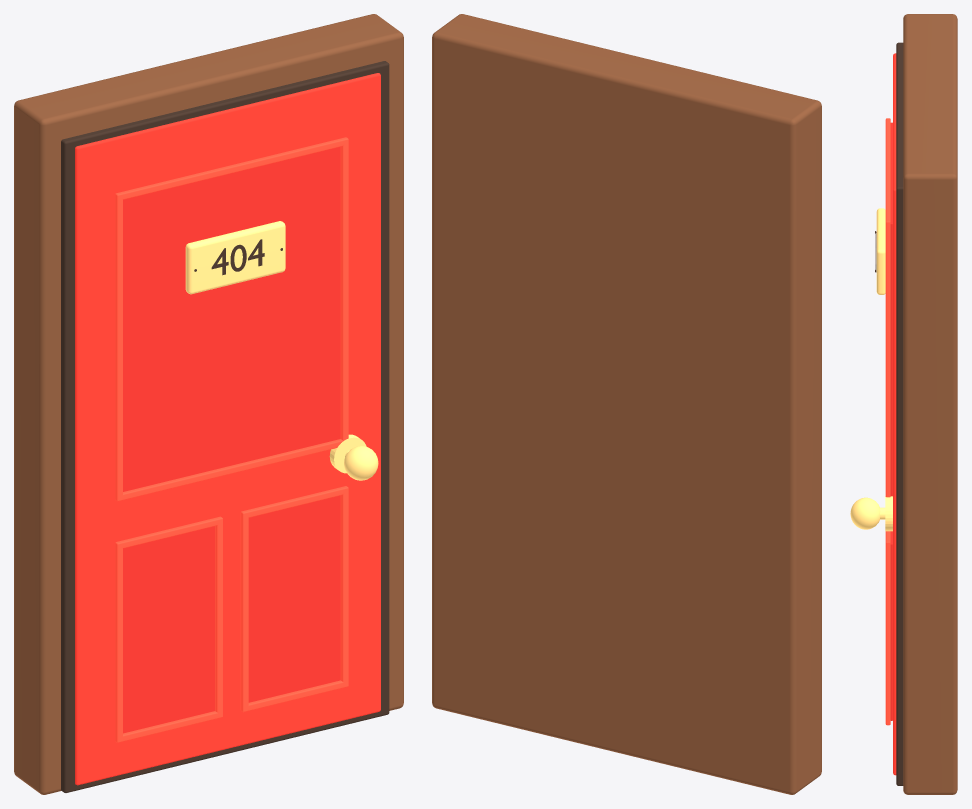
Rendered from landing.glb.
3 renders of one model, left to right at view 1: azimuth 30°, elevation 25°; view 2: azimuth 150°, elevation 25°; view 3: azimuth 270°, elevation 25°, orthographic. The views are drawn at different scales.
Visible parts, largest first — view 1: Entry door; view 2: Entry door; view 3: Entry door.
Boxes of the visible parts, x1,y1,x2,y2 form: Entry door: (14, 14, 403, 794); Entry door: (432, 14, 821, 794); Entry door: (850, 14, 957, 794).
Size of what is drawn, in the model's own units: 1.42 by 2.52 by 0.394.
